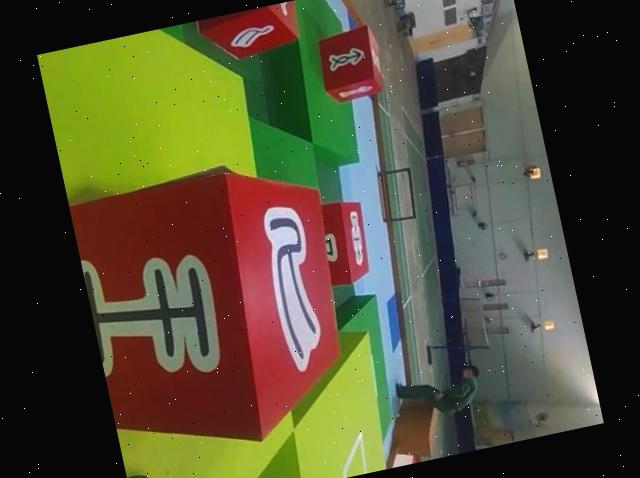R2 Fake: (68, 151, 368, 470)
R2 Real: (194, 0, 305, 66), (311, 19, 391, 107)
